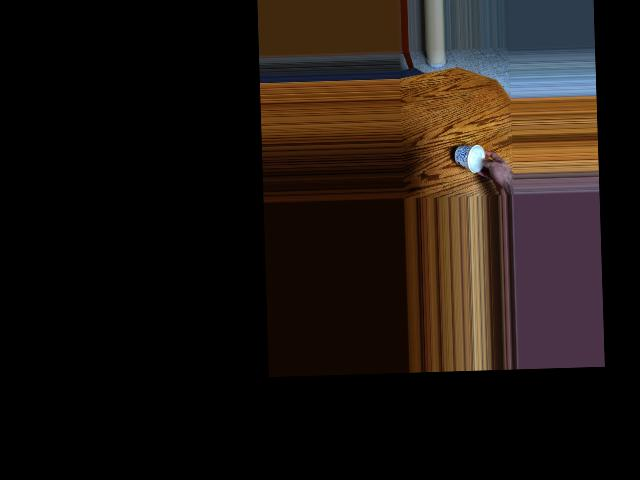cotage: (453, 144, 488, 178)
